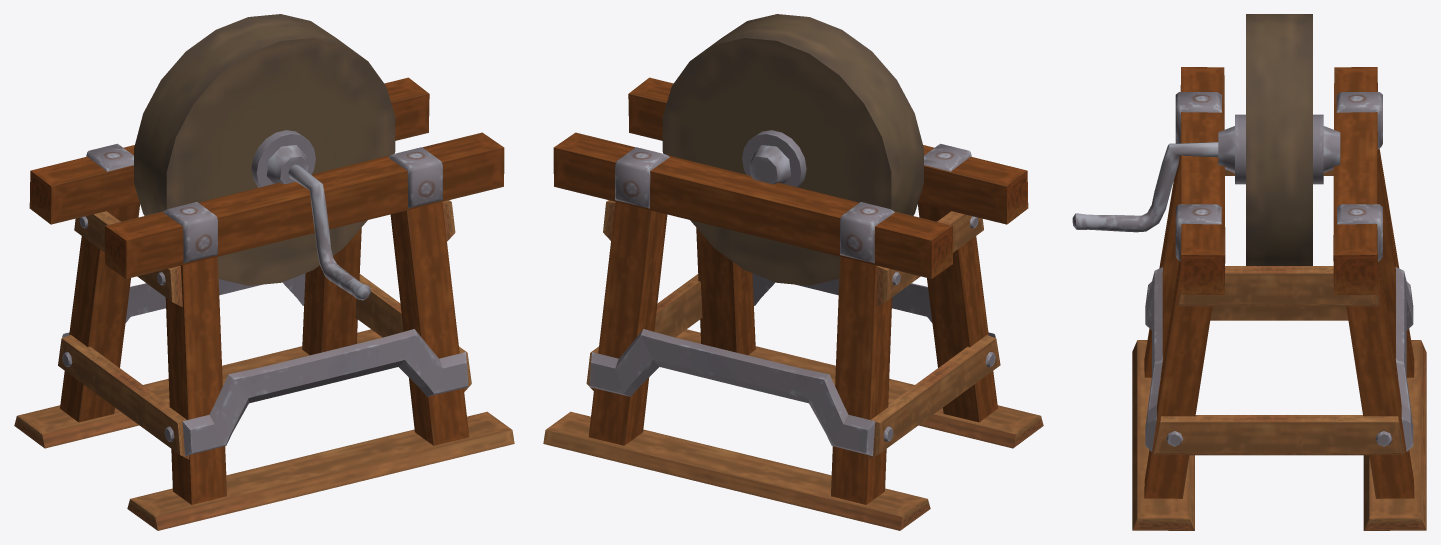
File: whetstone.glb
3 renders of one model, left to right at view 1: azimuth 30°, elevation 25°; view 2: azimuth 150°, elevation 25°; view 3: azimuth 270°, elevation 25°, orthographic. The views are drawn at different scales.
Visible parts, largest first — view 1: Whetstone; view 2: Whetstone; view 3: Whetstone.
Boxes of the visible parts, <box> form: Whetstone: <box>14,14,514,530</box>; Whetstone: <box>543,14,1043,530</box>; Whetstone: <box>1072,14,1426,530</box>.
Bounding box in the file's own units: 1.14 × 1.17 × 0.9018.
3 materials, 3 textured.
